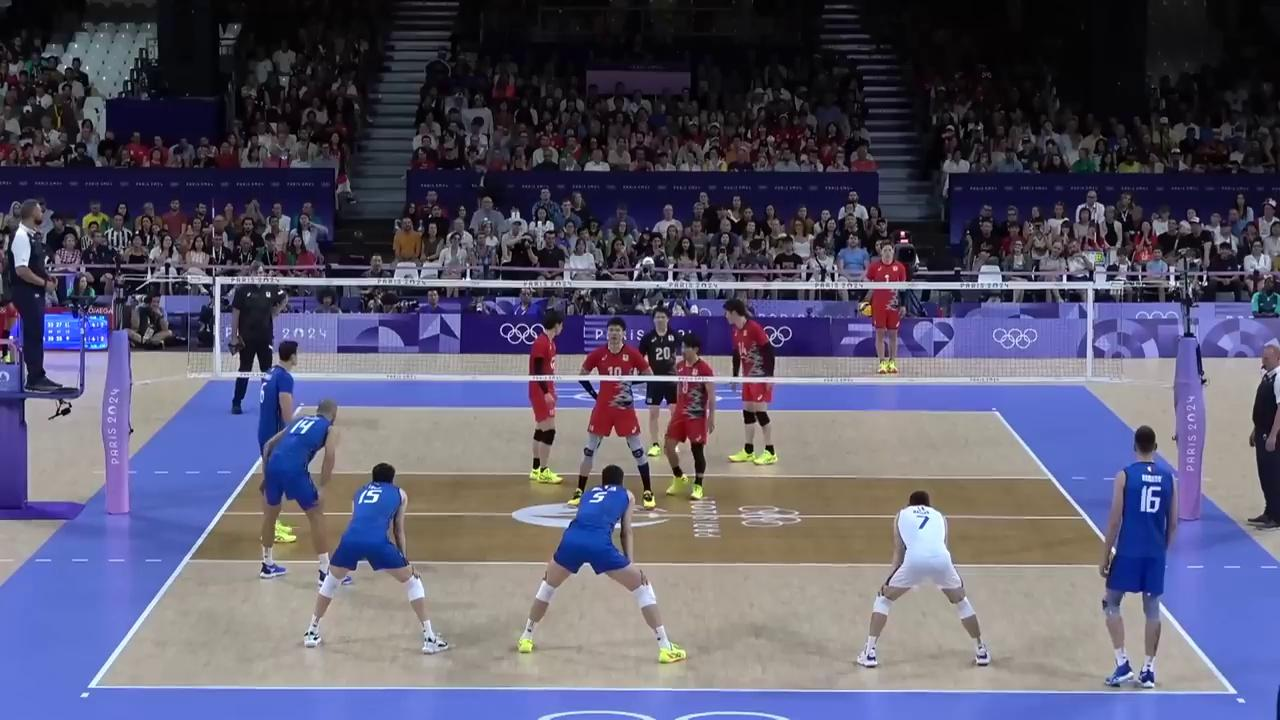ball: (861, 302, 872, 318)
